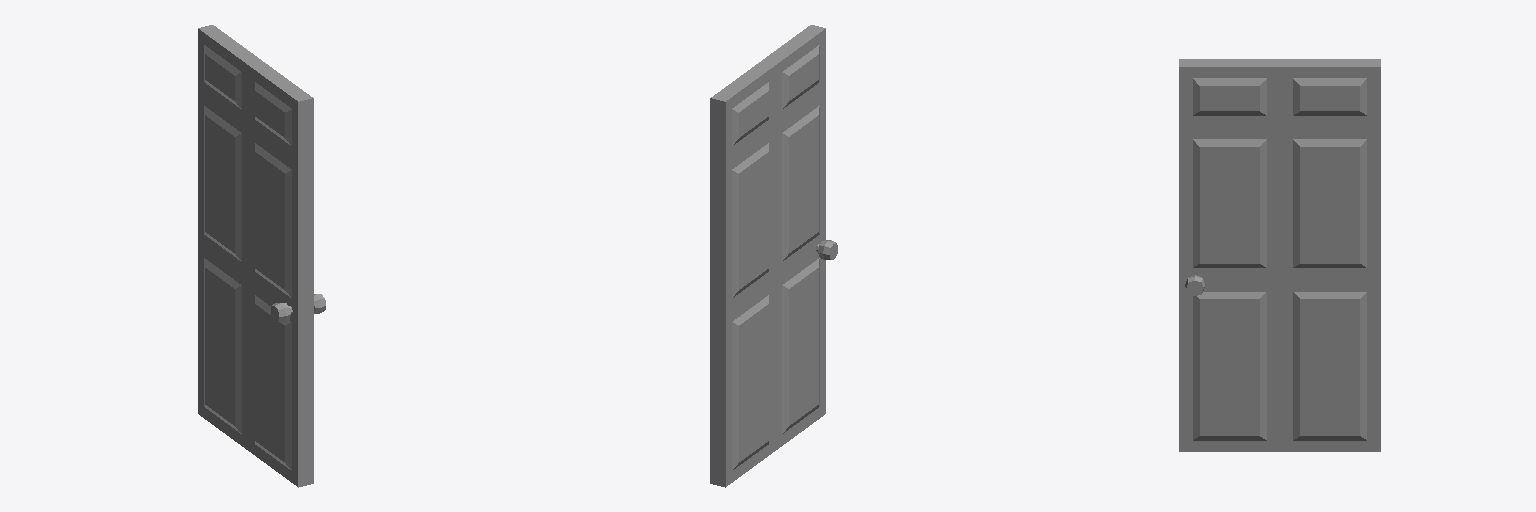
File: CHAHIN_DOOR.obj
3 renders of one model, left to right at view 1: azimuth 30°, elevation 25°; view 2: azimuth 150°, elevation 25°; view 3: azimuth 270°, elevation 25°, orthographic.
Visible parts, largest first — view 1: Cube.003_Cube; view 2: Cube.003_Cube; view 3: Cube.003_Cube.
Part boxes in pixels (left/top/right/bottom): Cube.003_Cube: left=198, top=25, right=325, bottom=487; Cube.003_Cube: left=710, top=25, right=837, bottom=487; Cube.003_Cube: left=1179, top=59, right=1380, bottom=451.
Bounding box in the file's own units: 0.4998 × 3.92 × 1.85.